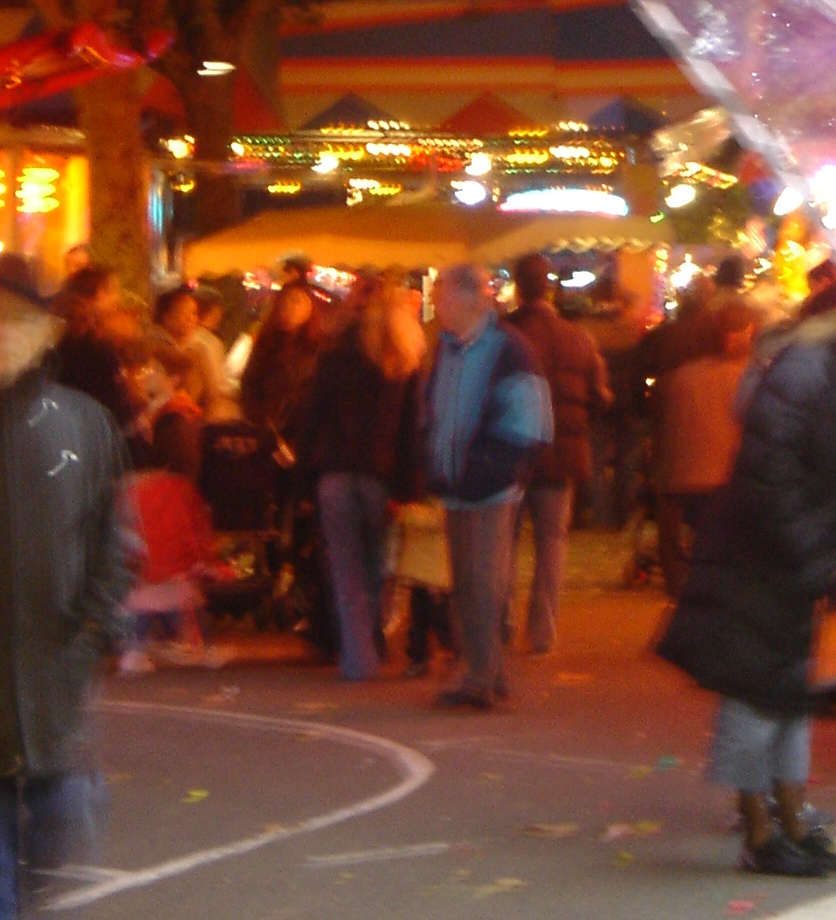person: (425, 260, 550, 722), (316, 283, 426, 681)
